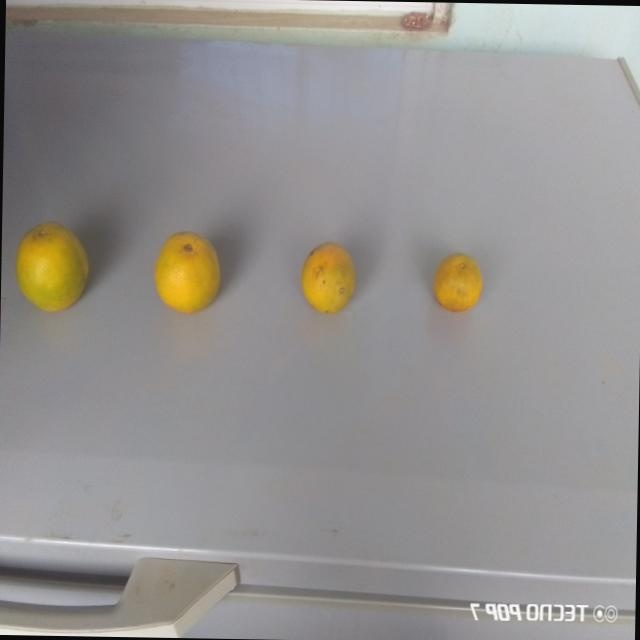agrume: (13, 221, 95, 316), (153, 224, 222, 317), (406, 246, 490, 322), (295, 236, 359, 318)
